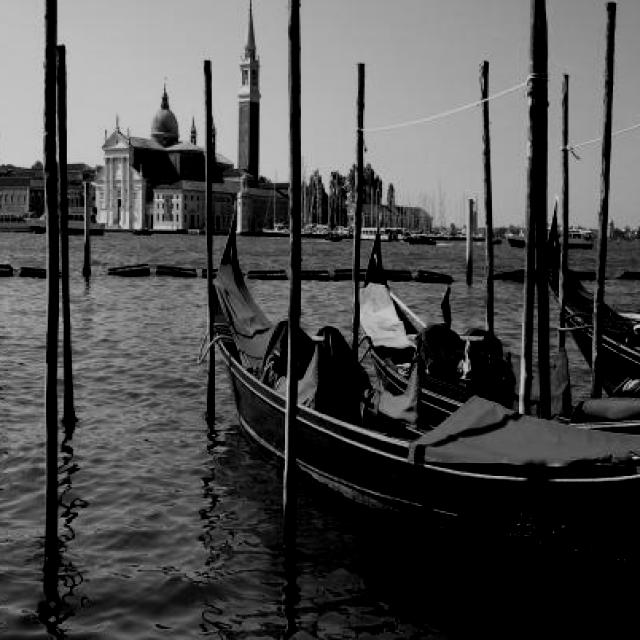ship: (212, 202, 640, 573), (360, 213, 640, 433), (24, 203, 107, 236), (505, 220, 595, 246), (262, 168, 290, 235)
